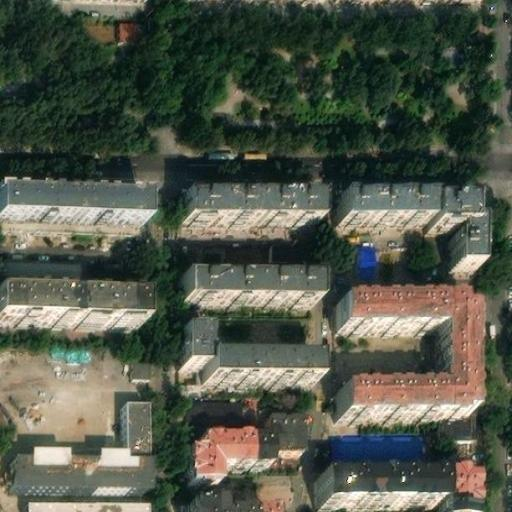building: (335, 290, 469, 383), (320, 466, 476, 512), (14, 450, 153, 493), (335, 380, 468, 416), (339, 189, 475, 220), (179, 192, 316, 220), (187, 275, 322, 303), (186, 432, 250, 484), (326, 434, 424, 464), (205, 359, 317, 384), (29, 491, 150, 512), (250, 420, 296, 465), (0, 256, 82, 279), (126, 405, 152, 458), (189, 496, 275, 512), (453, 216, 482, 262), (353, 244, 379, 284), (178, 335, 206, 371), (121, 15, 146, 36), (130, 354, 152, 374)
